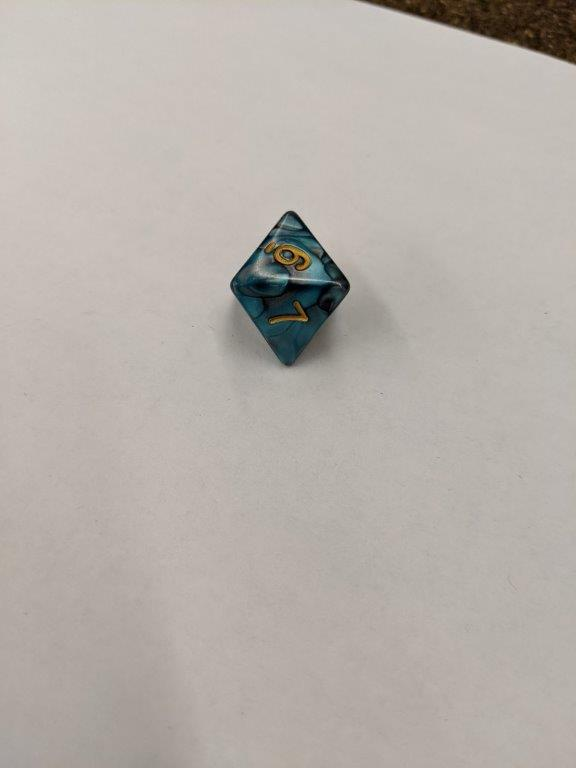d8-6: (227, 209, 353, 364)
